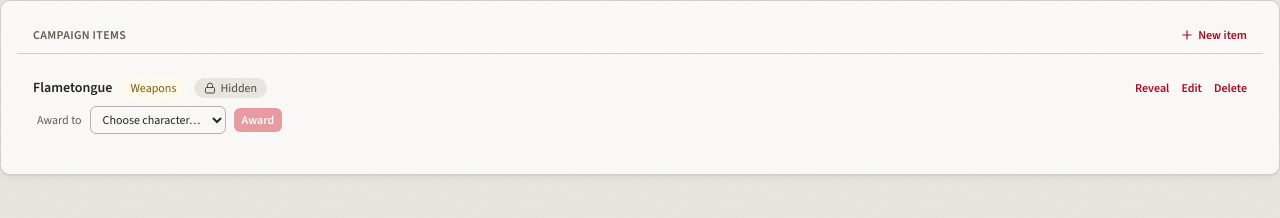
it: CampaignItemsPanel query cache (#1299) › writes an award's holders directly into the cache (exact write, not a refetch)
Check: the link "Flametongue" is shown, box top-left (33, 78), bottom-right (112, 98)
Select "Bruenor" in the dropdown labelled "Award to" at point(158, 120), box top-left (90, 106), bottom-right (226, 134)
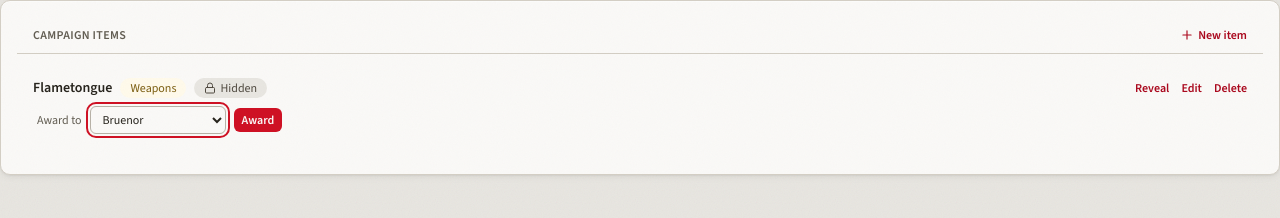
Click the button "Award" at point(258, 120), box top-left (234, 108), bottom-right (282, 132)
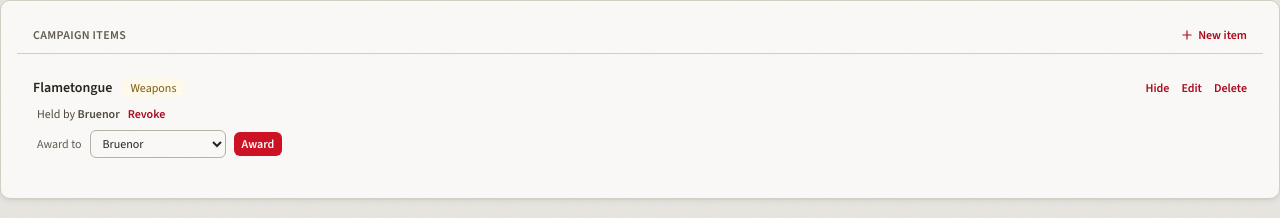
Check: the text "Held by Bruenor" is shown, box top-left (37, 106), bottom-right (120, 122)
